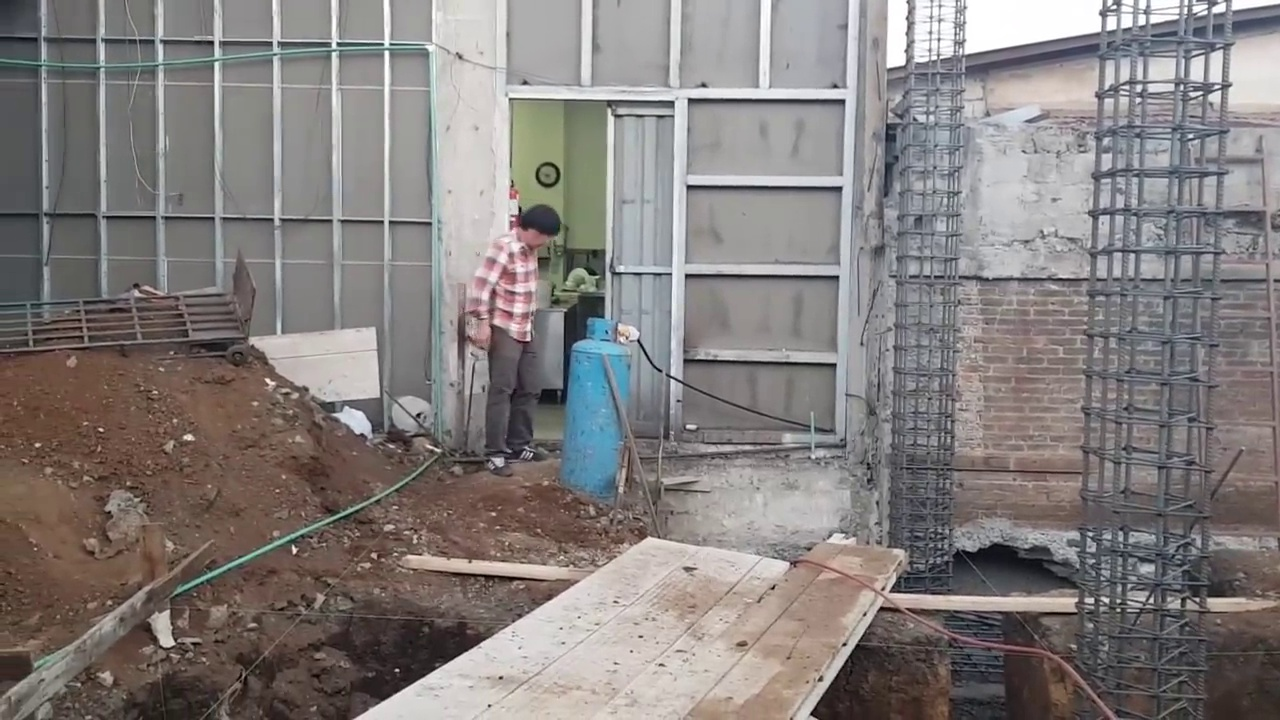helmet-off: (514, 208, 564, 256)
person: (467, 193, 566, 470)
